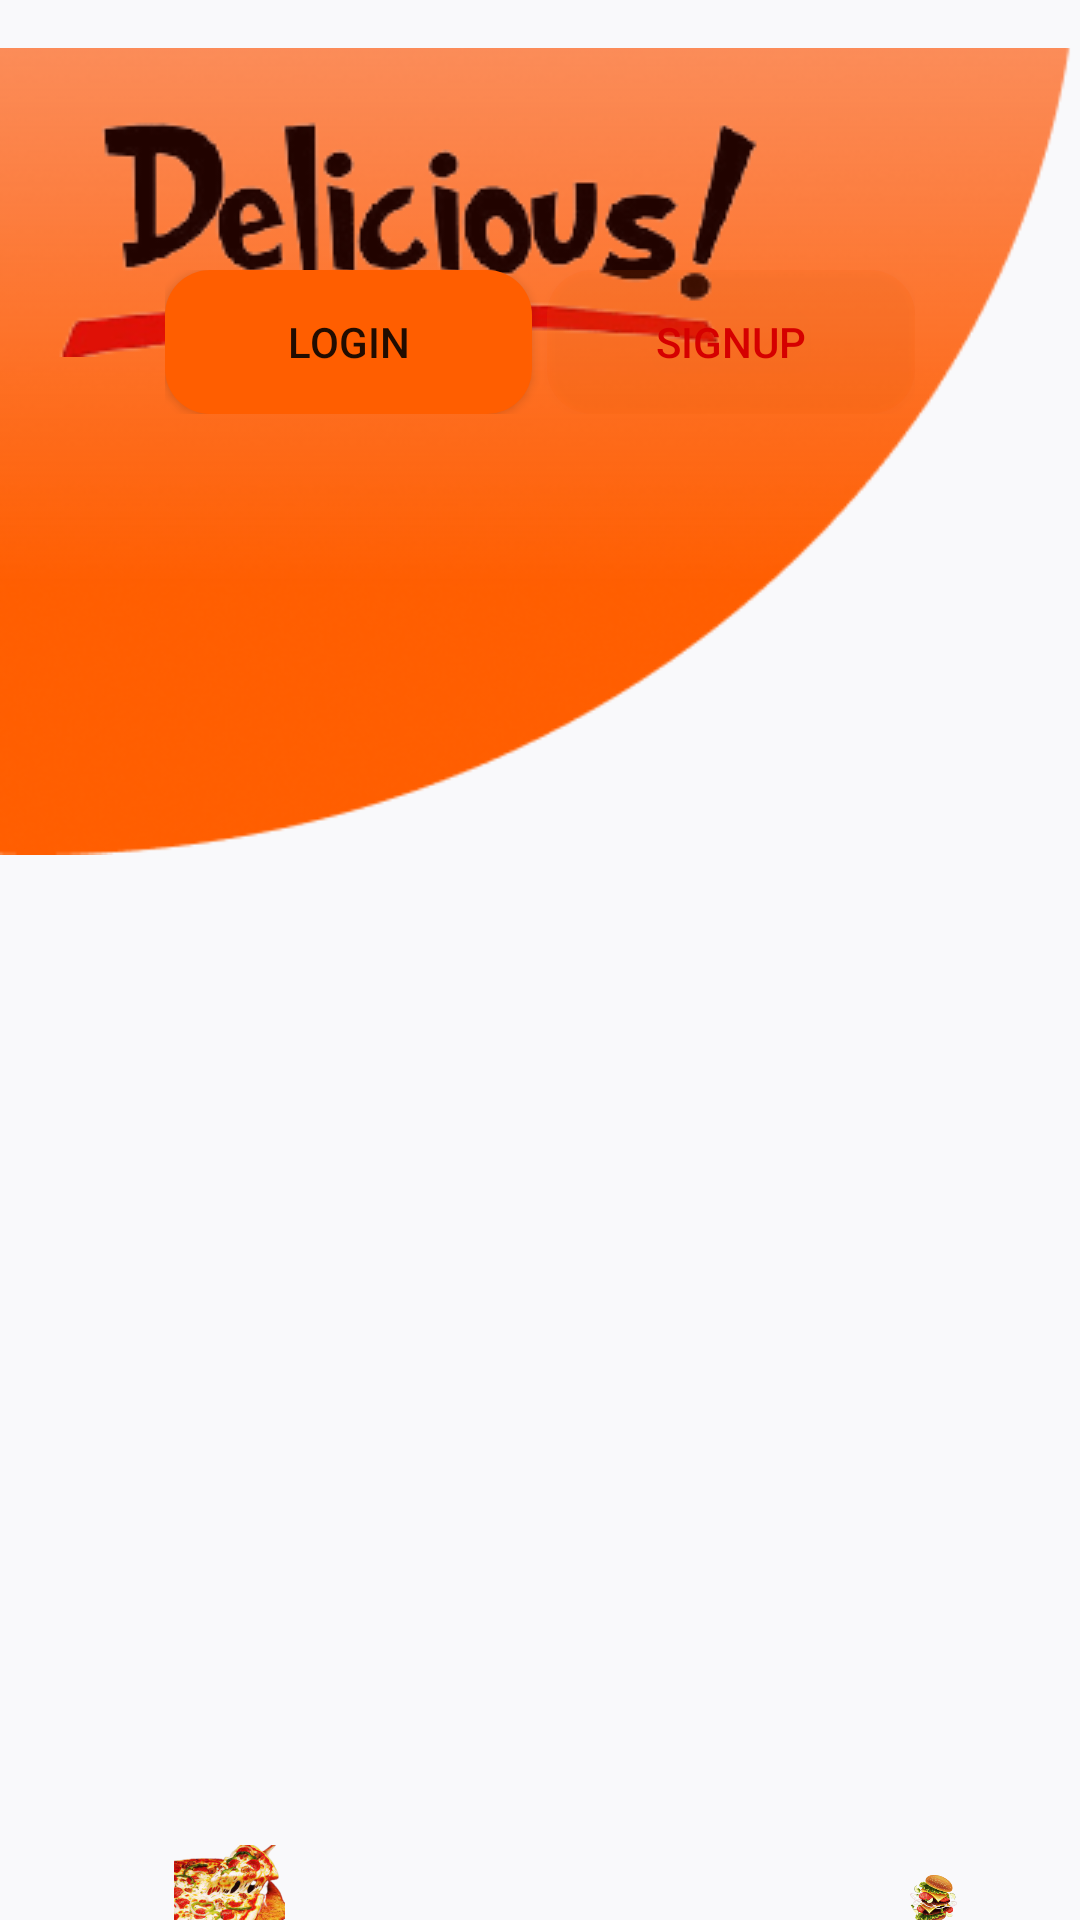

Icon click points for this 1080*1920 phone screenshot, format [x,y]:
burgerlogin: [933,1897]
